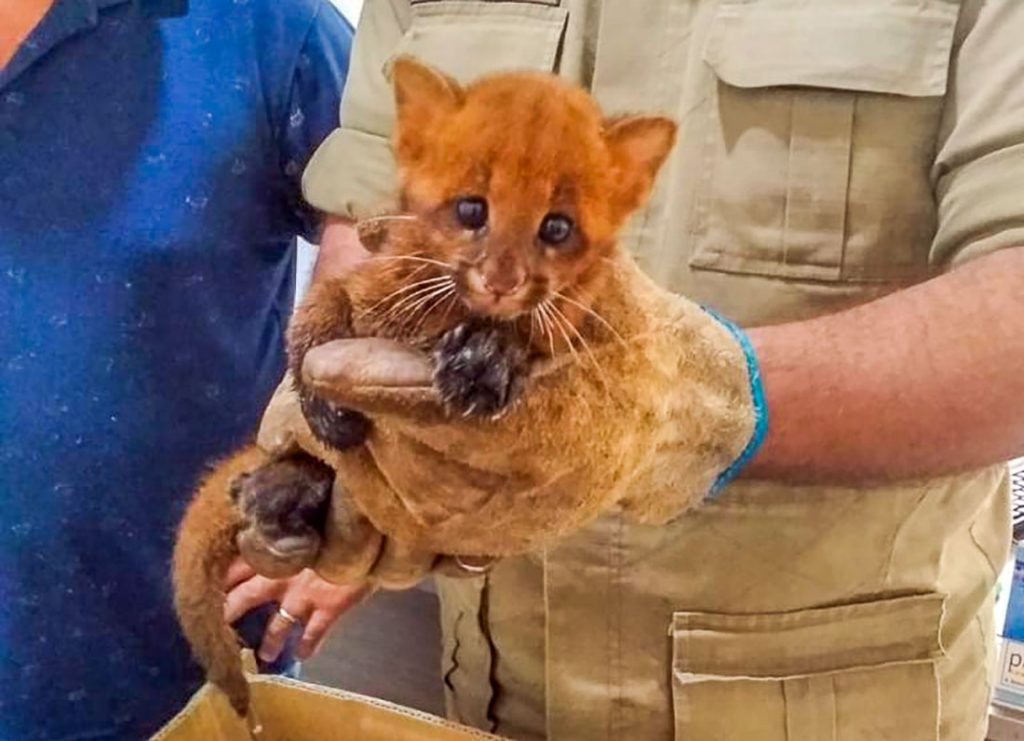OncaParda: (160, 48, 679, 707)
